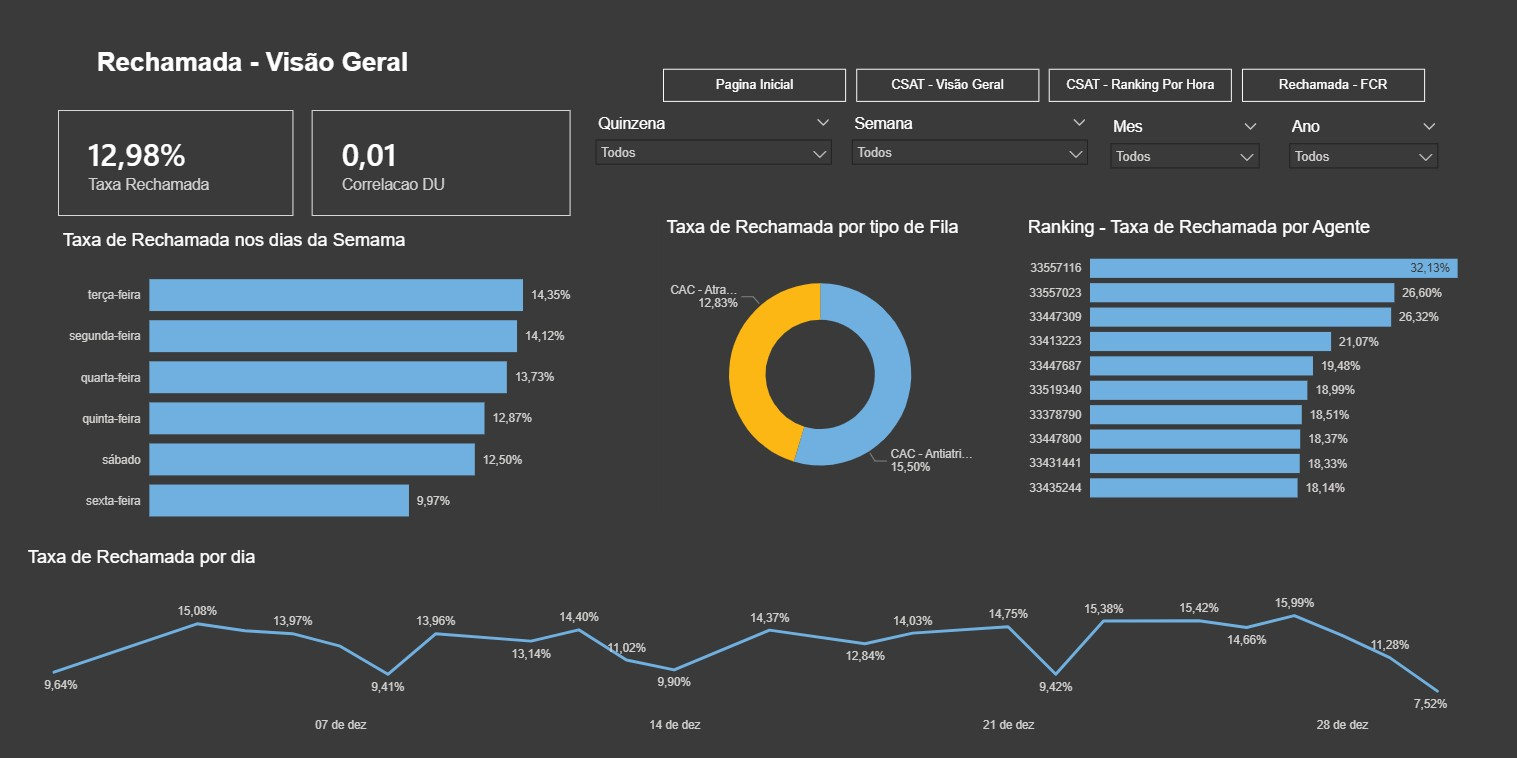

The page's visual inventory and layout, read from the dashboard file:
{"tool":"powerbi","page":{"name":"Rechamada - Visão Geral","canvas":[1600,800],"ordinal":3},"visuals":[{"type":"cardVisual","fields":{"Data":["Calculos.Correlacao DU"]},"box":[327.1,118.6,265.7,108.6],"z":0},{"type":"clusteredBarChart","title":"Taxa de Rechamada nos dias da Semama","fields":{"Y":["Calculos.Taxa Rechamada"],"Category":["frechamada.dia semana"]},"box":[67.1,241.4,541.4,317.1],"z":1000},{"type":"donutChart","title":"Taxa de Rechamada por tipo de Fila","fields":{"Category":["frechamada.Fila"],"Y":["Calculos.Taxa Rechamada"]},"box":[687.1,227.1,325.7,304.3],"z":2000},{"type":"cardVisual","fields":{"Data":["Calculos.Taxa Rechamada"]},"box":[67.1,118.6,241.4,108.6],"z":3000},{"type":"lineChart","title":"Taxa de Rechamada por dia","fields":{"Y":["Calculos.Taxa Rechamada"],"Category":["frechamada.Data"]},"box":[31.4,565.7,1484.3,200],"z":4000},{"type":"clusteredBarChart","title":"Ranking - Taxa de Rechamada por Agente","fields":{"Y":["Calculos.Taxa Rechamada"],"Category":["frechamada.AGENTE1"]},"box":[1057.1,227.1,498.6,304.3],"z":5000},{"type":"slicer","fields":{"Values":["frechamada.Quinzena"]},"box":[608.6,118.6,262.9,74.3],"z":6000},{"type":"slicer","fields":{"Values":["frechamada.Semana"]},"box":[871.4,118.6,262.9,74.3],"z":7000},{"type":"textbox","box":[44.3,48.6,442.9,54.3],"z":8000},{"type":"slicer","fields":{"Values":["dCalendario.MesAbrev"]},"box":[1136.9,121.4,172.9,74.3],"z":9000},{"type":"slicer","fields":{"Values":["dCalendario.Ano"]},"box":[1321.1,121.4,172.9,74.3],"z":10000},{"type":"pageNavigator","box":[688,76,784,34],"z":11000}]}

Visuals, with their boxes in screenshot pixels (x1, y1, x2, y2), scaled from the page's 1600x800 canvas onto the 1517x758 screenshot:
cardVisual - Calculos.Correlacao DU: rect(310, 112, 562, 215)
"Taxa de Rechamada nos dias da Semama" clusteredBarChart: rect(64, 229, 577, 529)
"Taxa de Rechamada por tipo de Fila" donutChart: rect(651, 215, 960, 504)
cardVisual - Calculos.Taxa Rechamada: rect(64, 112, 292, 215)
"Taxa de Rechamada por dia" lineChart: rect(30, 536, 1437, 726)
"Ranking - Taxa de Rechamada por Agente" clusteredBarChart: rect(1002, 215, 1475, 504)
slicer - frechamada.Quinzena: rect(577, 112, 826, 183)
slicer - frechamada.Semana: rect(826, 112, 1075, 183)
textbox: rect(42, 46, 462, 97)
slicer - dCalendario.MesAbrev: rect(1078, 115, 1242, 185)
slicer - dCalendario.Ano: rect(1253, 115, 1416, 185)
pageNavigator: rect(652, 72, 1396, 104)
